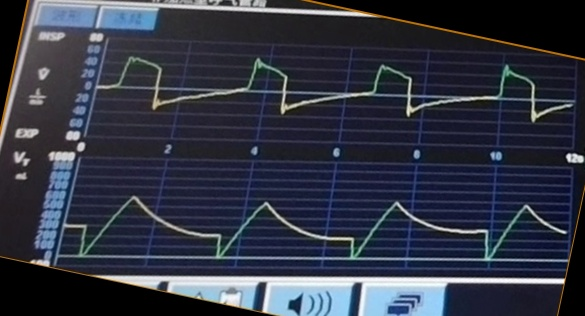Flow: (108, 54, 560, 140)
Leakage Volume: (72, 189, 561, 272)
